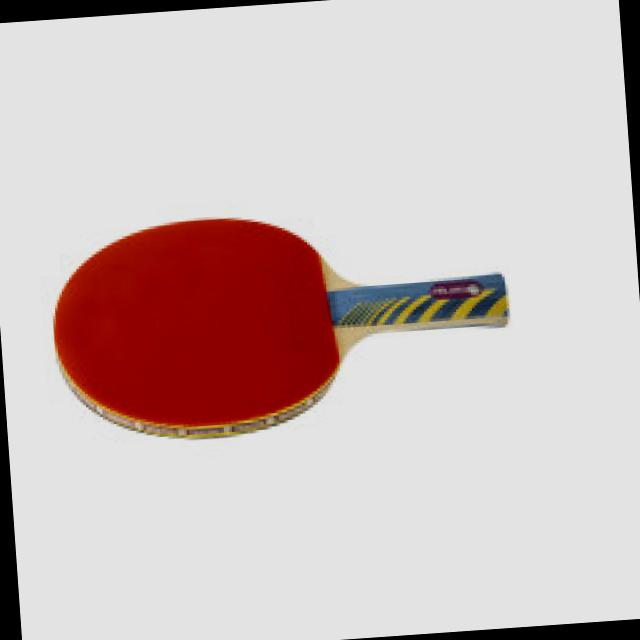TT Racket: (32, 186, 397, 476)
